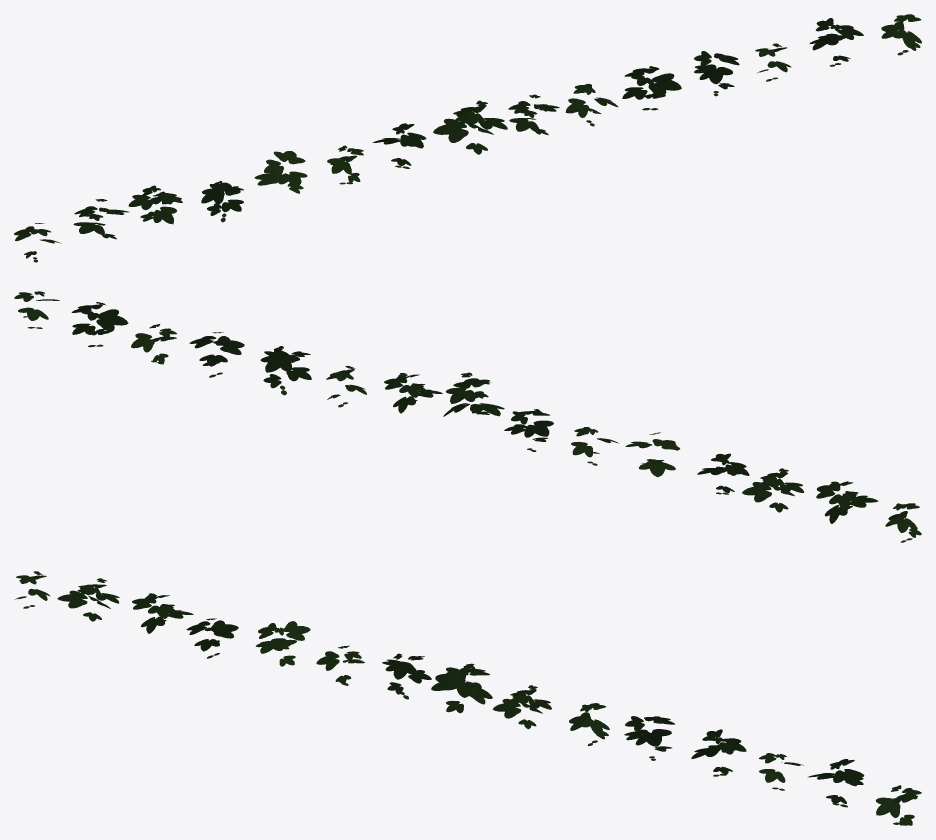
File: ROW_05_SEG0_foliage.dae
The picture shows the model from 3 angles, top to bottom: view 1: azimuth 30°, elevation 25°; view 2: azimuth 150°, elevation 25°; view 3: azimuth 330°, elevation 25°; orthographic projection.
Visible parts, largest first — view 1: ROW_05_SEG0_foliage; view 2: ROW_05_SEG0_foliage; view 3: ROW_05_SEG0_foliage.
Part boxes in pixels (left/top/right/bottom): ROW_05_SEG0_foliage: left=14, top=14, right=921, bottom=262; ROW_05_SEG0_foliage: left=14, top=291, right=921, bottom=542; ROW_05_SEG0_foliage: left=14, top=571, right=921, bottom=825.
Bounding box in the file's own units: 4.42 × 0.3184 × 0.2621.
